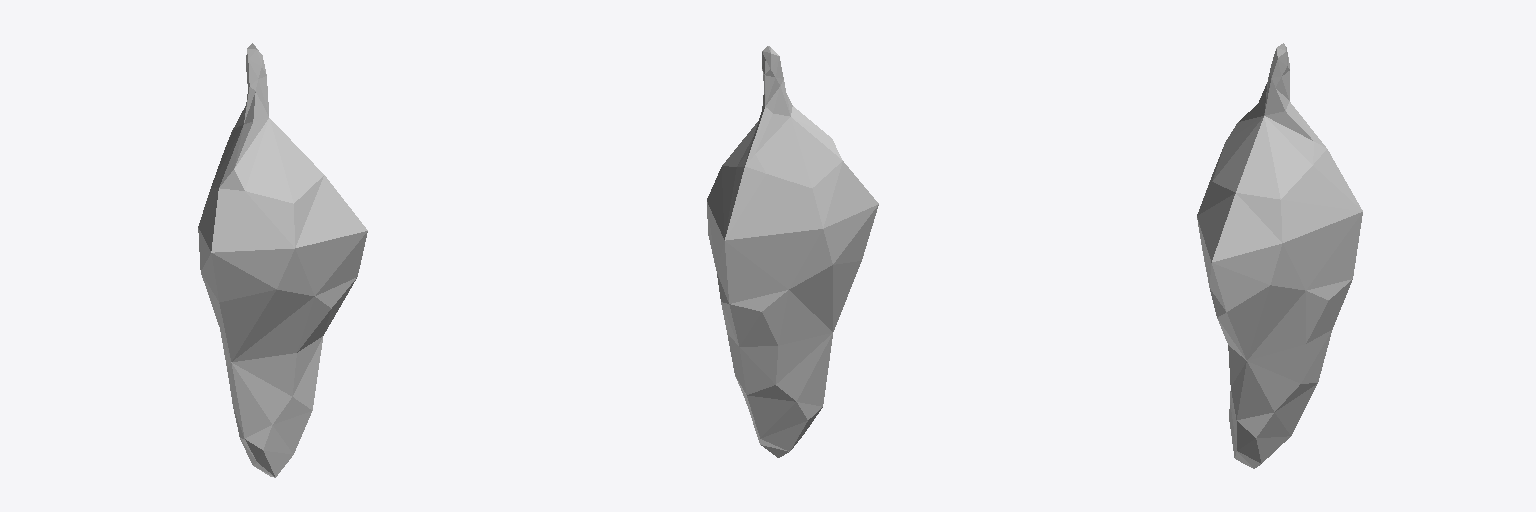
Rendered from anglerfish_bulb.obj.
3 renders of one model, left to right at view 1: azimuth 30°, elevation 25°; view 2: azimuth 150°, elevation 25°; view 3: azimuth 270°, elevation 25°, orthographic.
Visible parts, largest first — view 1: Plane.003_Plane.005; view 2: Plane.003_Plane.005; view 3: Plane.003_Plane.005.
Boxes of the visible parts, <box> form: Plane.003_Plane.005: <box>198,43,367,477</box>; Plane.003_Plane.005: <box>707,46,878,457</box>; Plane.003_Plane.005: <box>1197,43,1362,468</box>.
Size of the model in its own units: 0.1303 by 0.3392 by 0.1205.